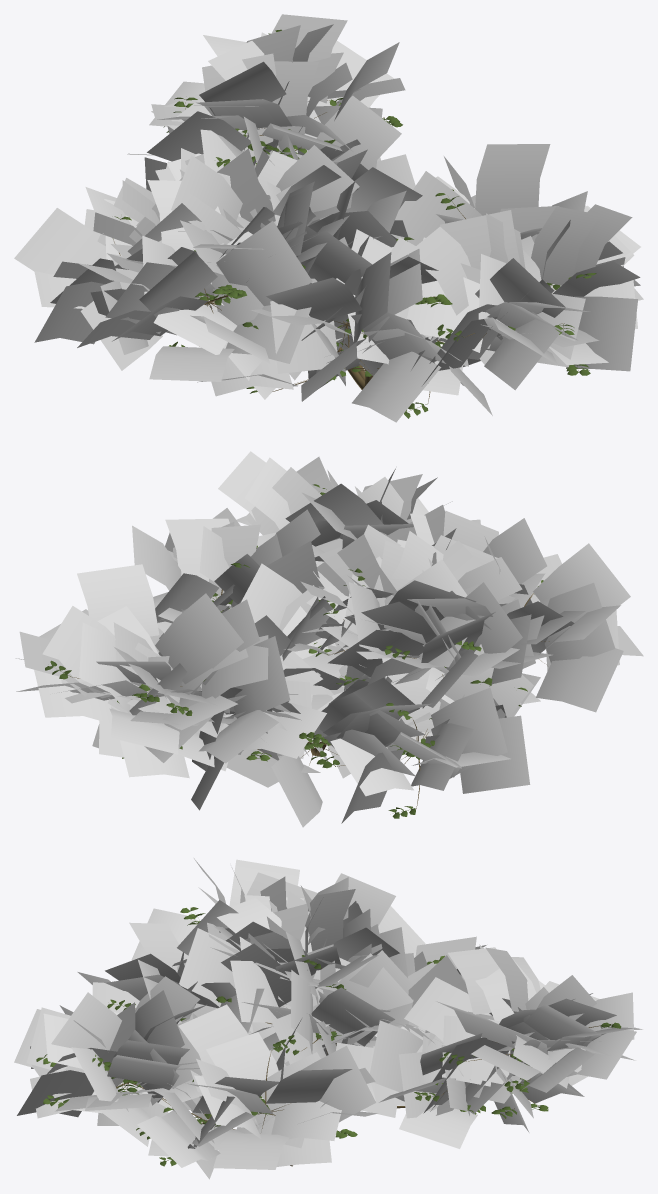
File: Lentisque_Etale_LOD0.fbx
3 views of the same model, one above another, from view 1: azimuth 30°, elevation 25°; view 2: azimuth 150°, elevation 25°; view 3: azimuth 270°, elevation 25° (orthographic). The views are drawn at different scales.
Parts seen in each view (by area): view 1: Lentisque_Etale; view 2: Lentisque_Etale; view 3: Lentisque_Etale.
Boxes of the visible parts, box(x1,y1,x2,y2) form: Lentisque_Etale: box(14, 14, 643, 422); Lentisque_Etale: box(15, 451, 643, 827); Lentisque_Etale: box(14, 858, 642, 1179).
Size of the model in its own units: 375 by 173 by 448.
